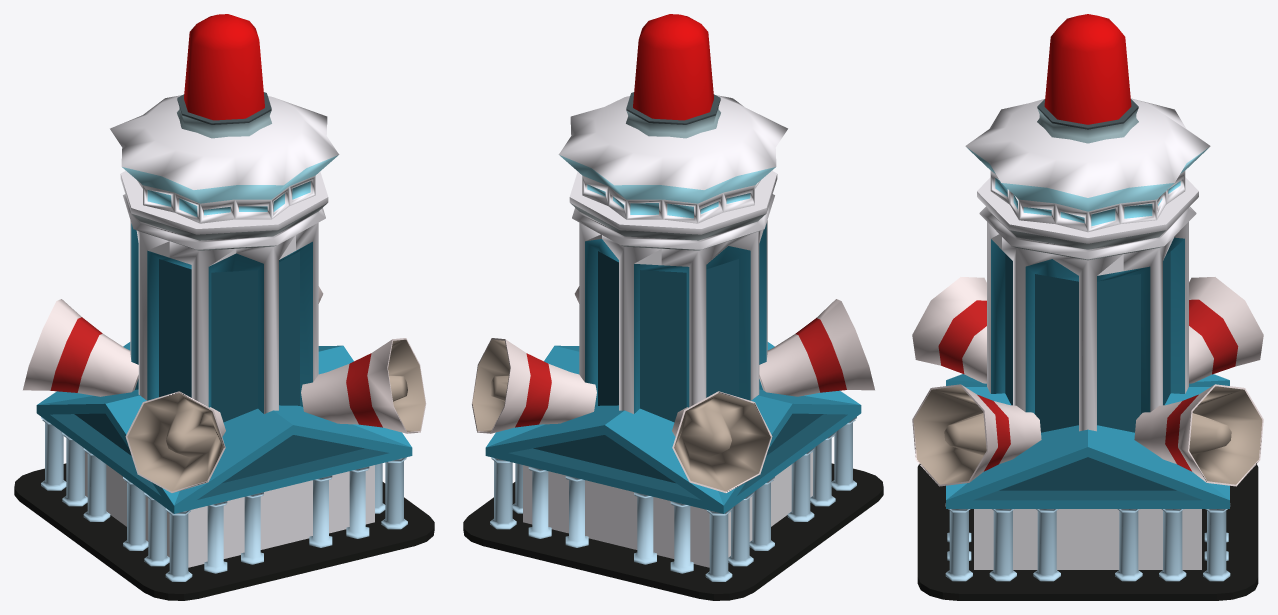
File: Sirine_Building.glb
The picture shows the model from 3 angles, left to right: view 1: azimuth 30°, elevation 25°; view 2: azimuth 150°, elevation 25°; view 3: azimuth 270°, elevation 25°; orthographic projection. The views are drawn at different scales.
Visible parts, largest first — view 1: Plane047; view 2: Plane047; view 3: Plane047.
Part boxes in pixels (x1,y1,x2,y2): Plane047: (14, 14, 434, 600); Plane047: (463, 14, 883, 600); Plane047: (912, 14, 1263, 600).
Bounding box in the file's own units: 3.19 × 5.09 × 3.19.
1 material, 1 textured.
